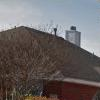Chimney: (61, 20, 77, 52)
